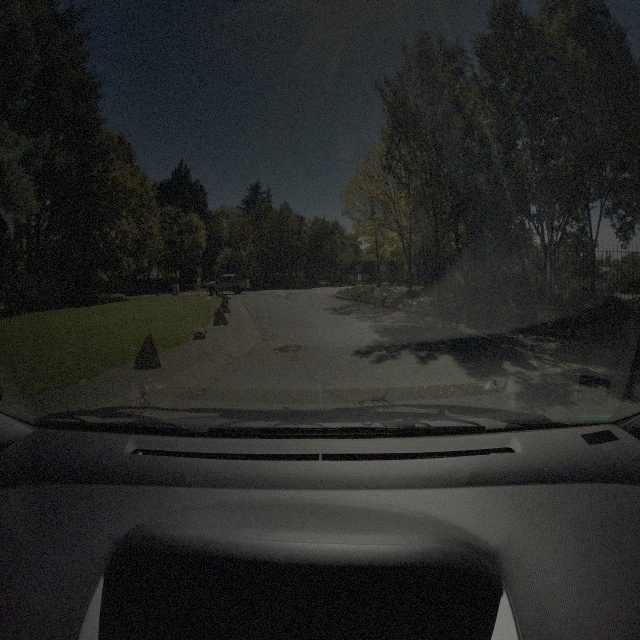pothole: (358, 399, 393, 409), (272, 344, 302, 354)
